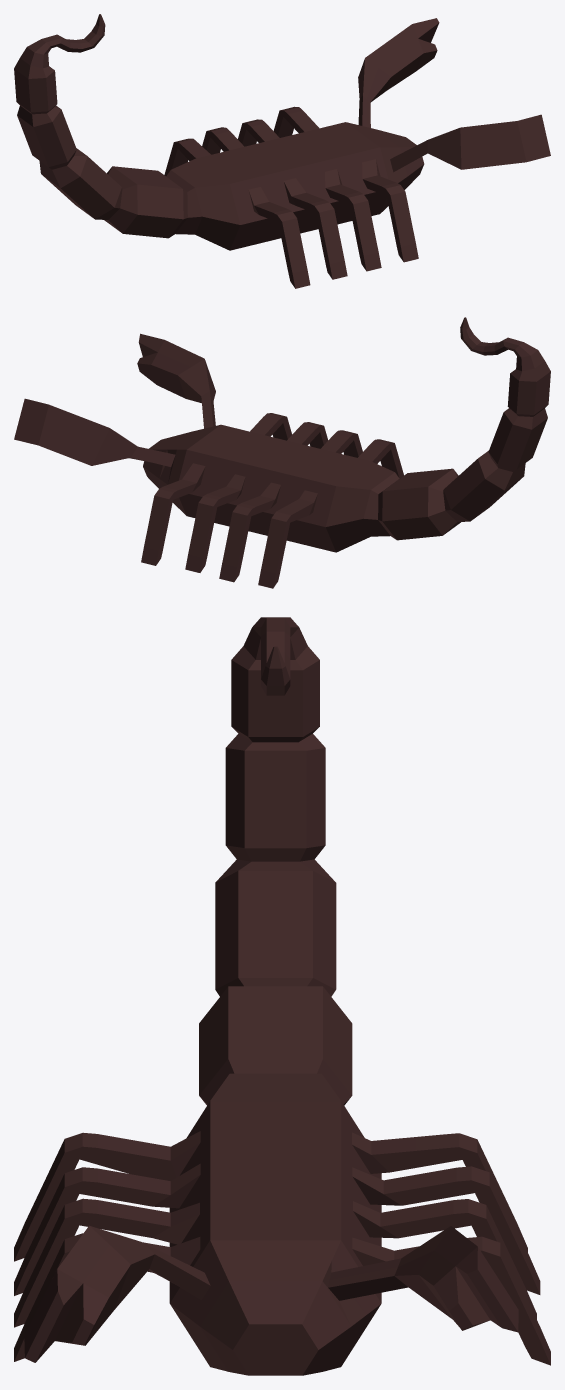
File: DesertItem4.fbx
3 renders of one model, top to bottom at view 1: azimuth 30°, elevation 25°; view 2: azimuth 150°, elevation 25°; view 3: azimuth 270°, elevation 25°, orthographic. The views are drawn at different scales.
Parts seen in each view (by area): view 1: Cube.001_Cube.005; view 2: Cube.001_Cube.005; view 3: Cube.001_Cube.005.
Part boxes in pixels (bbox=[...]): Cube.001_Cube.005: bbox=[14, 14, 550, 288]; Cube.001_Cube.005: bbox=[14, 317, 550, 588]; Cube.001_Cube.005: bbox=[14, 617, 550, 1375].
Bounding box in the file's own units: 189 × 97.97 × 98.52.
